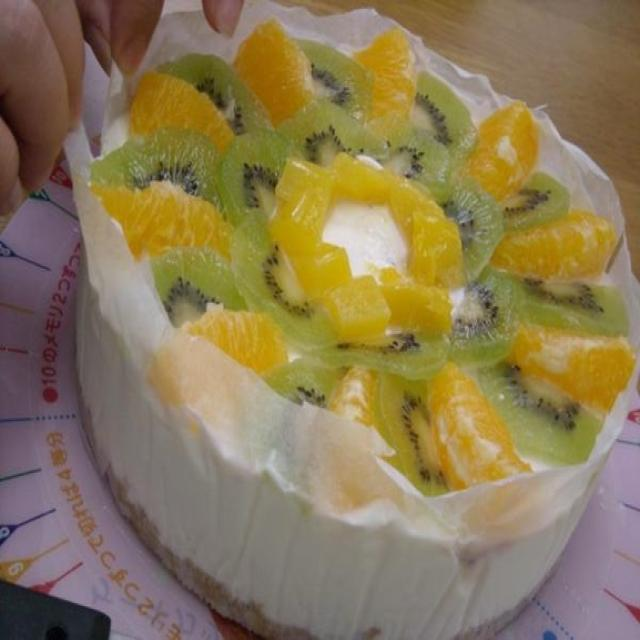猪肉菜式: (51, 51, 504, 602)
